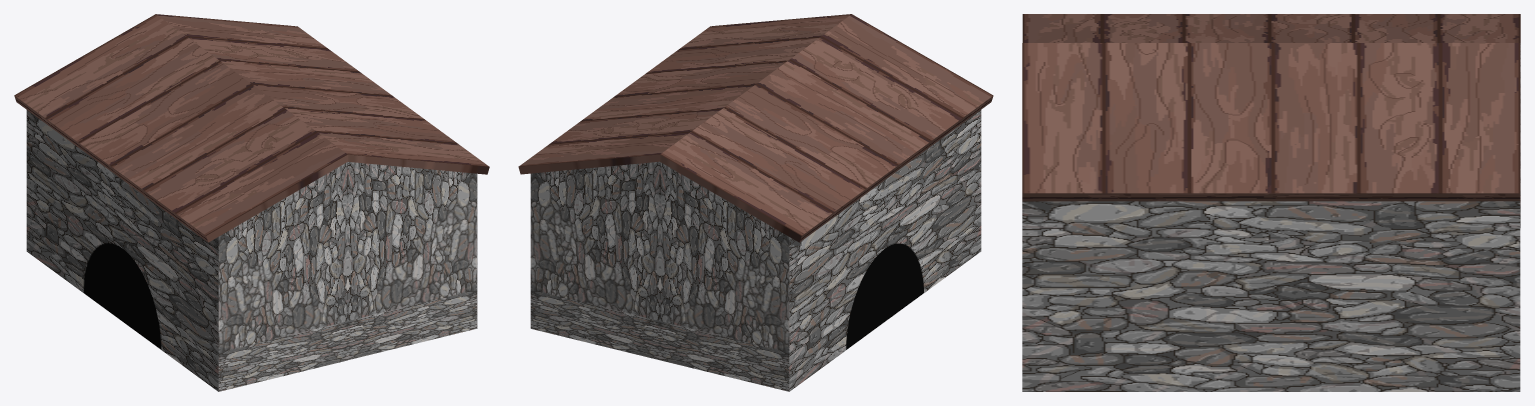
Rendered from stone_house.fbx.
3 renders of one model, left to right at view 1: azimuth 30°, elevation 25°; view 2: azimuth 150°, elevation 25°; view 3: azimuth 270°, elevation 25°, orthographic. The views are drawn at different scales.
Parts seen in each view (by area): view 1: Stone House; view 2: Stone House; view 3: Stone House.
Boxes of the visible parts, left/top/right/bottom form: Stone House: left=14, top=14, right=489, bottom=391; Stone House: left=518, top=14, right=993, bottom=391; Stone House: left=1022, top=14, right=1520, bottom=391.
Size of the model in its own units: 767 by 533 by 901.
